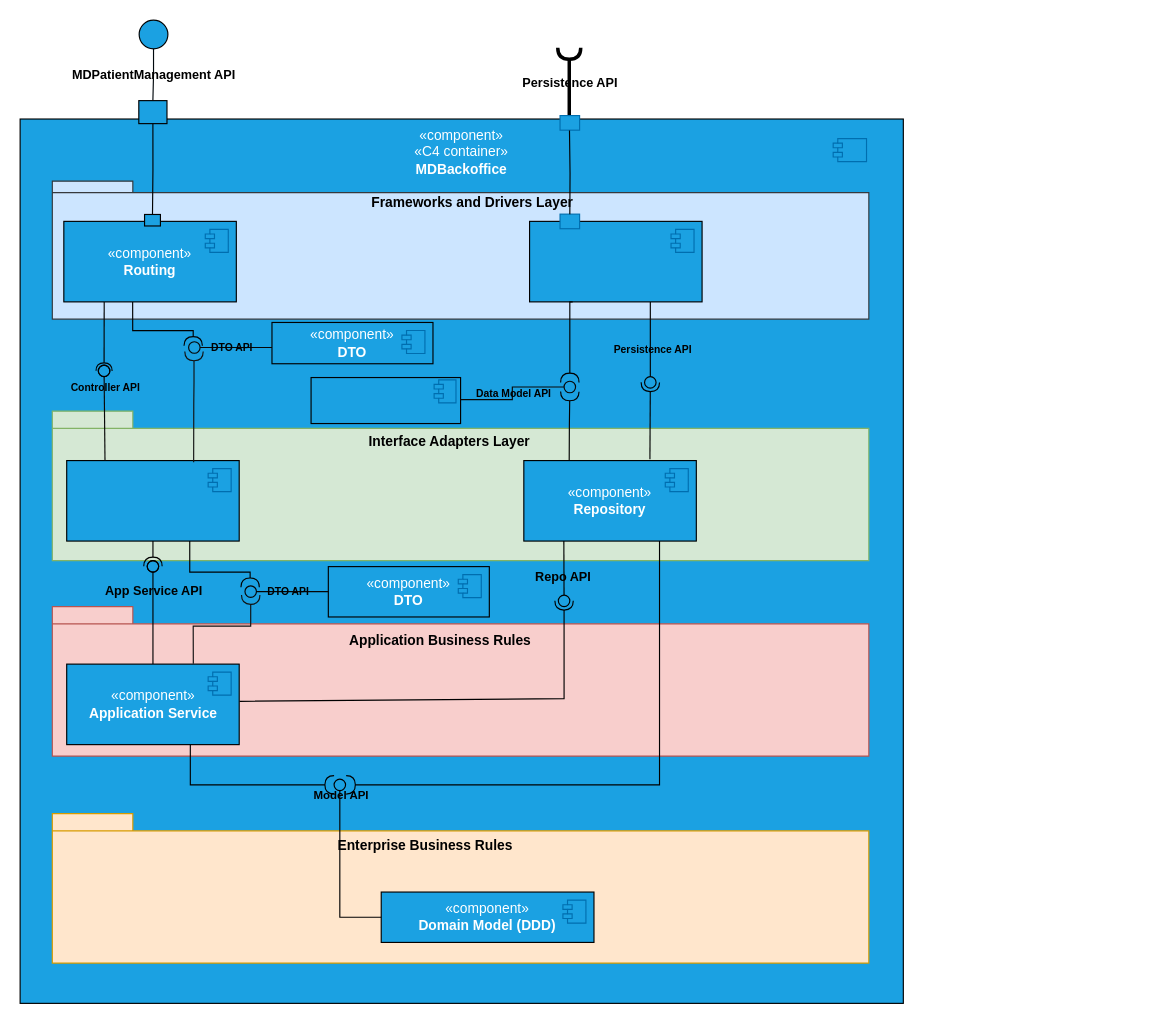
The diagram is 1165 pixels wide and 1024 high, and some of its shapes have lost their labels. The centre of each missing label's shape, as x and y in pixels:
"«component» Controller" belongs at point 152,500.
"«component» Data Model" belongs at point 385,400.
"«component» Persistence" belongs at point 615,261.
